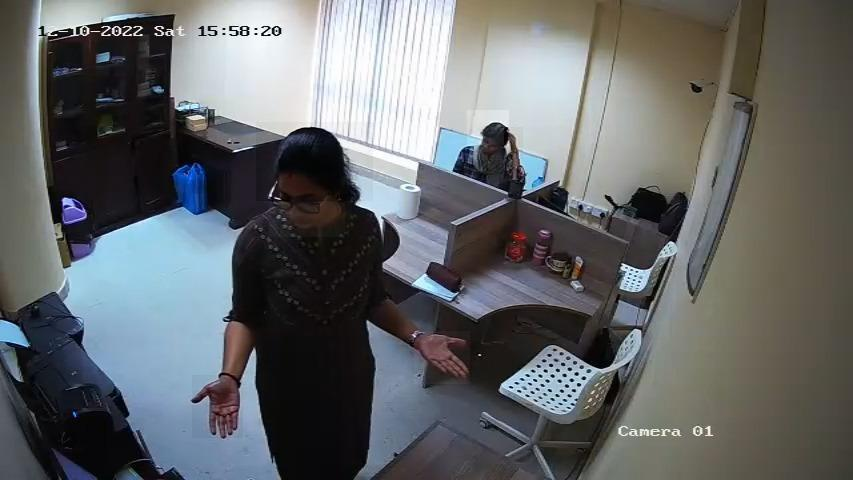no_apron: (193, 375, 244, 438), (415, 331, 471, 384), (505, 128, 524, 160)
no_gloves: (256, 122, 373, 201), (468, 110, 510, 145)
no_hairnet: (270, 202, 346, 237), (475, 135, 502, 161)
